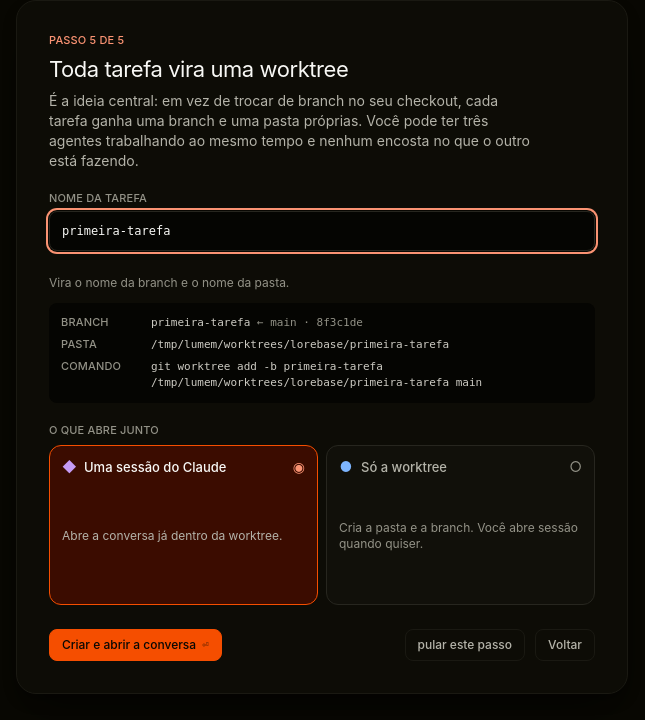
Test case: task step › keeps the worktree when the session fails to spawn
What coordinates should you click on to do the following:
click the button "Criar e abrir a conversa ⏎"
I would click on:
 (135, 645)
Its box is top-left (49, 629), bottom-right (222, 661).
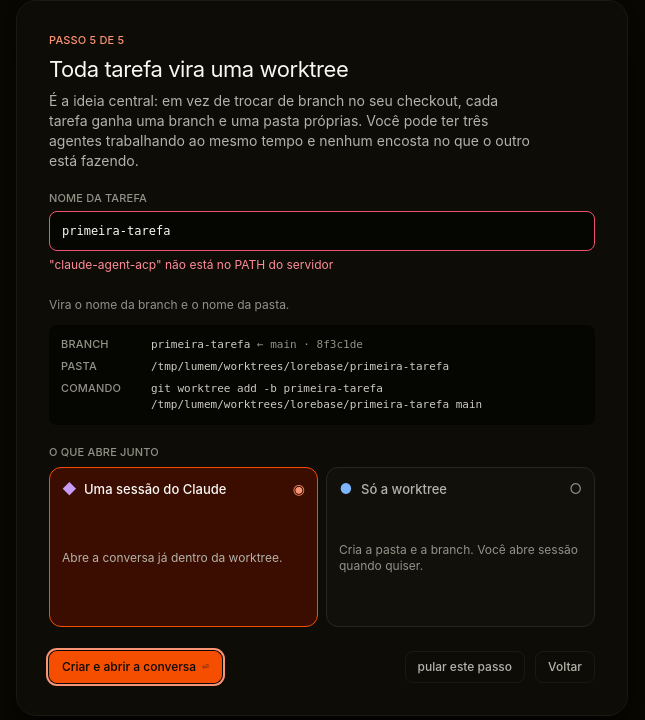
Expected: the message shows "não está no PATH", top-left (49, 257), bottom-right (333, 272)
